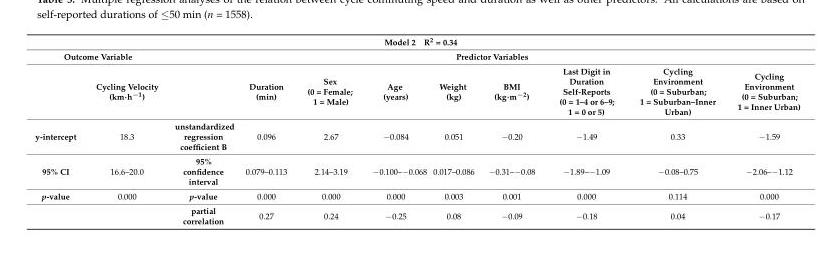table: (34, 35, 799, 226)
table column: (626, 35, 725, 226), (85, 35, 165, 226), (546, 35, 626, 226), (165, 35, 239, 226), (725, 35, 799, 226), (361, 35, 429, 226), (480, 35, 546, 226), (296, 35, 361, 226), (239, 35, 296, 226), (34, 35, 85, 226), (429, 35, 480, 226)
table column header: (34, 35, 799, 118)
table row: (34, 63, 799, 118), (34, 118, 799, 153), (34, 153, 799, 188), (34, 203, 799, 226), (34, 48, 799, 63), (34, 188, 799, 203), (34, 35, 799, 48)
table spanning cell: (34, 35, 799, 48), (165, 48, 799, 63), (34, 48, 165, 63), (34, 188, 85, 226)
